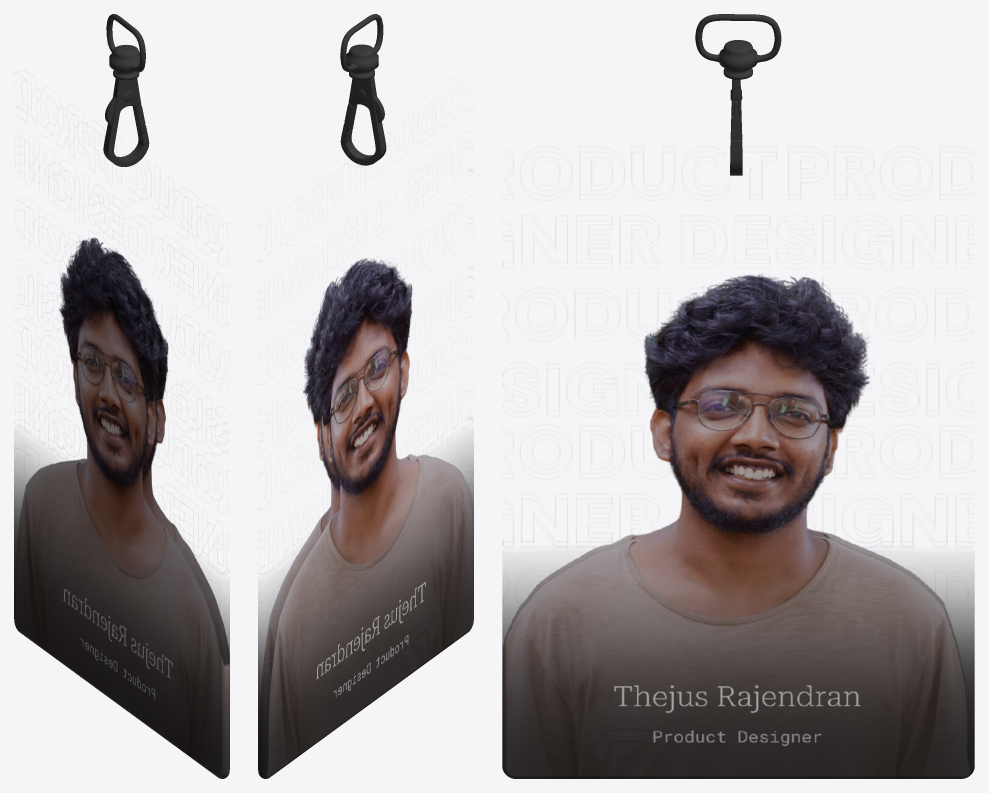
Rendered from id-card.glb.
The picture shows the model from 3 angles, left to right: view 1: azimuth 30°, elevation 25°; view 2: azimuth 150°, elevation 25°; view 3: azimuth 270°, elevation 25°; orthographic projection. The views are drawn at different scales.
Parts seen in each view (by area): view 1: card, clamp, clip; view 2: card, clamp, clip; view 3: card, clip, clamp.
Part boxes in pixels (left/top/right/bottom): card: left=14, top=107, right=229, bottom=778; clamp: left=103, top=78, right=149, bottom=166; clip: left=106, top=14, right=145, bottom=80; card: left=258, top=169, right=473, bottom=778; clamp: left=340, top=76, right=386, bottom=165; clip: left=340, top=14, right=383, bottom=79; card: left=502, top=152, right=974, bottom=778; clip: left=695, top=14, right=781, bottom=79; clamp: left=730, top=79, right=742, bottom=175.
Size of the model in its own units: 0.0895 by 1.43 by 0.8.
Materials: 2 (1 with a texture image).
